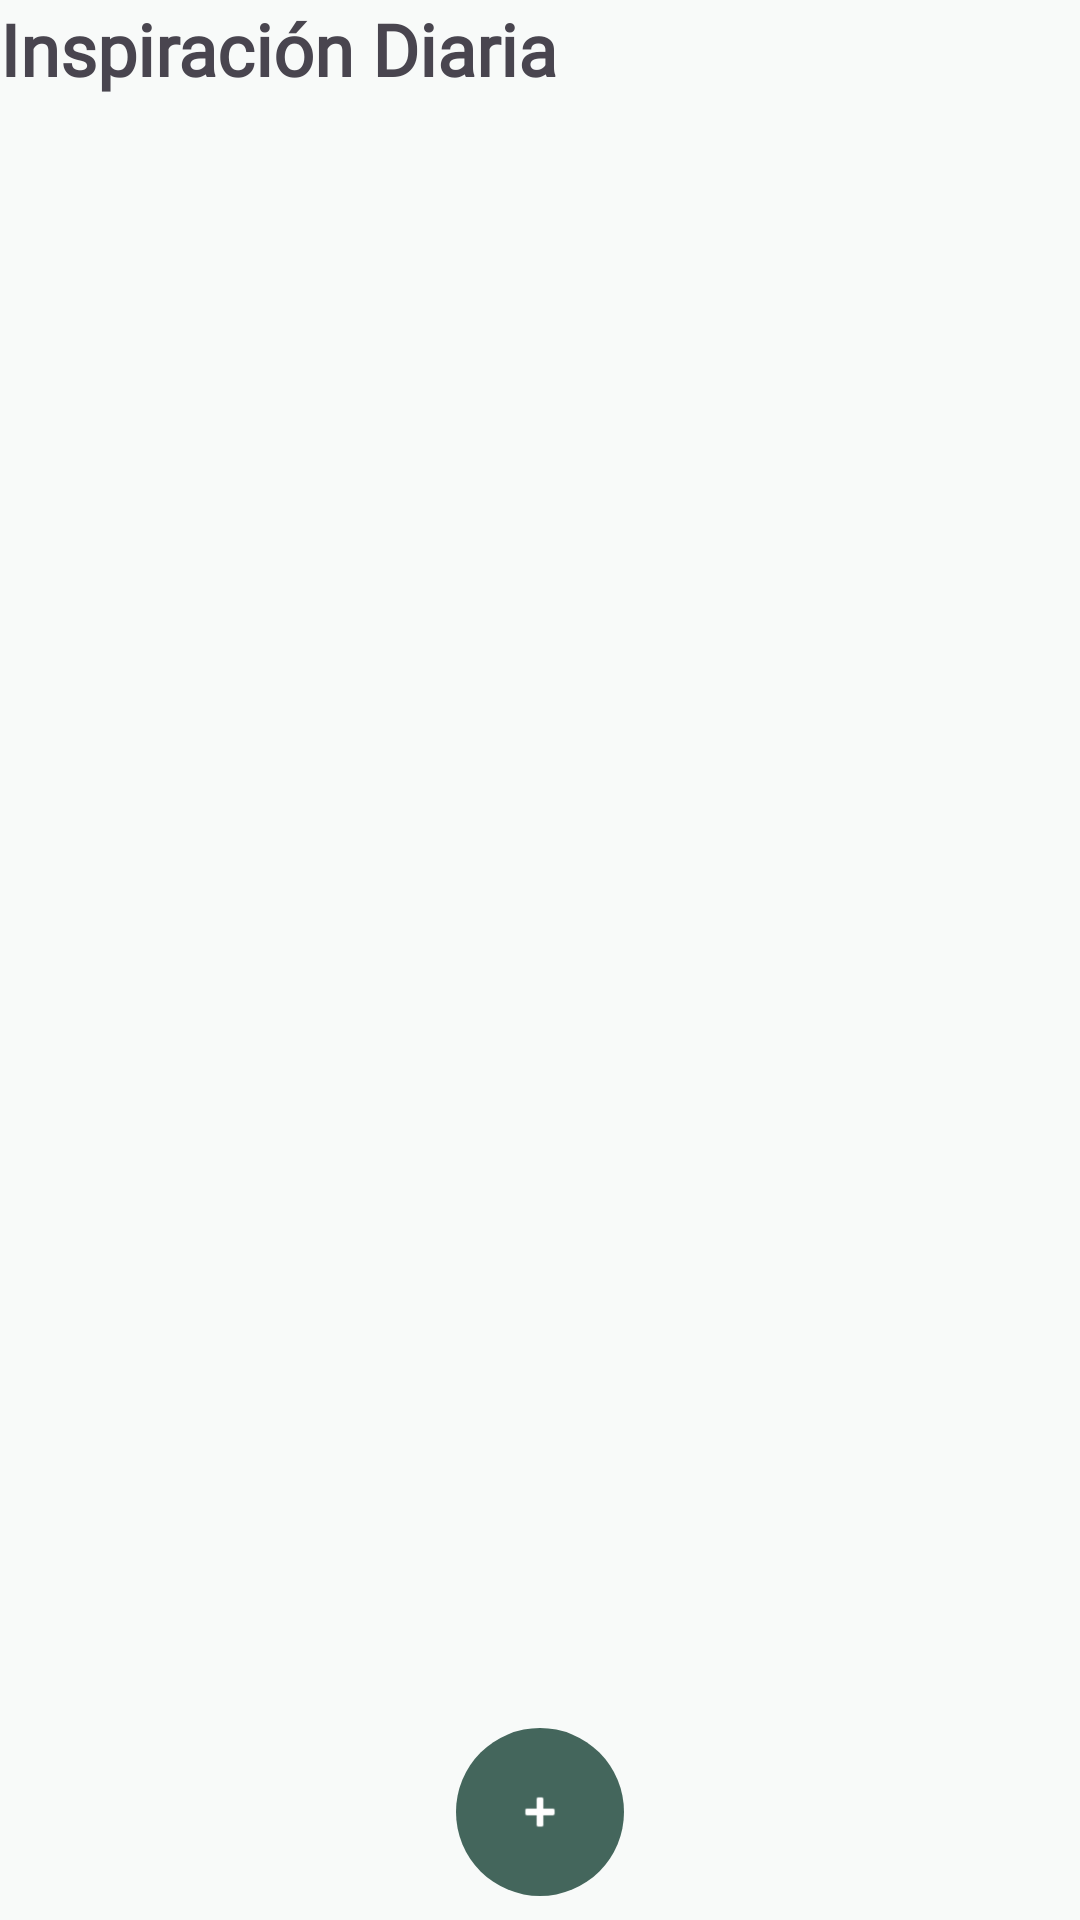

Screen size 1080 × 1920. Icon name, then its center in pixels as (x,y):
Agregar más quotes: (540,1812)
